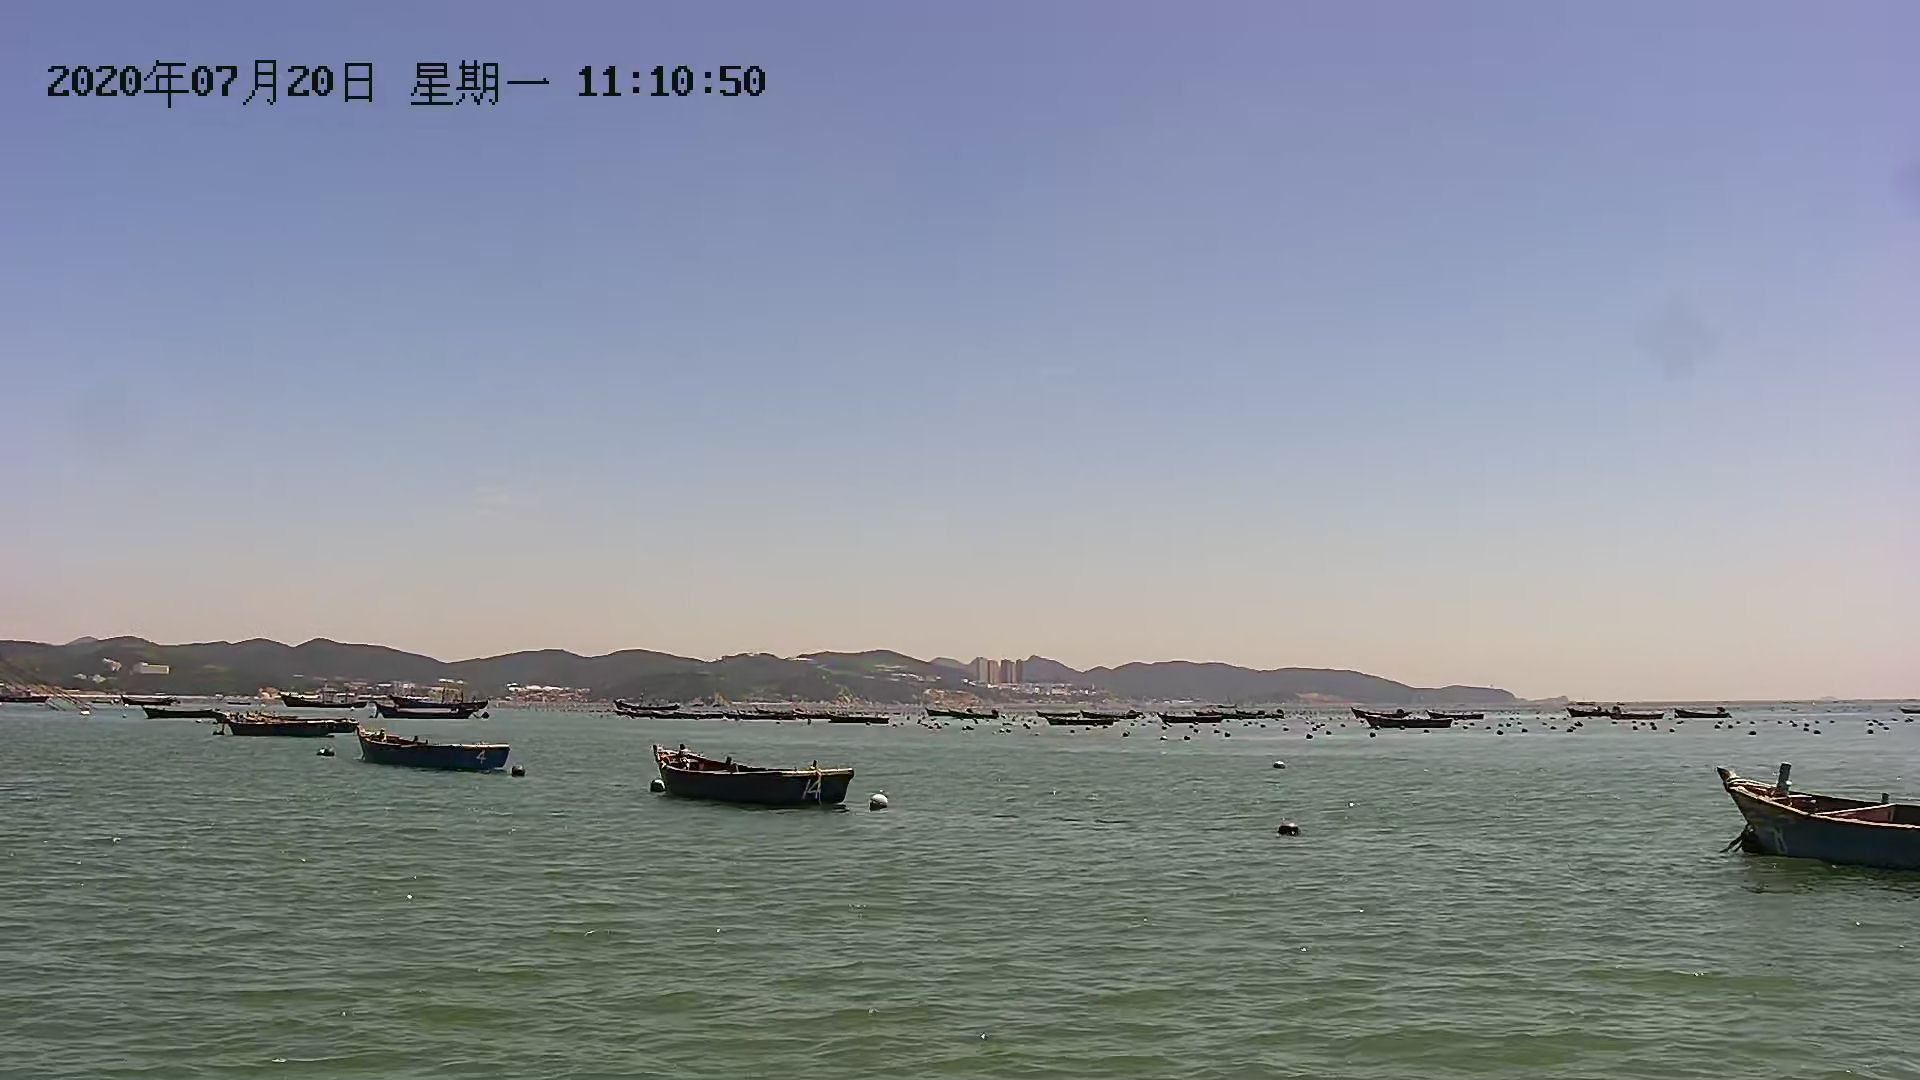ball: (1270, 812, 1308, 845), (506, 761, 538, 782), (872, 789, 899, 812)
boat: (1718, 760, 1920, 860), (649, 745, 853, 808), (359, 720, 510, 775), (218, 713, 367, 741), (128, 694, 233, 724), (1369, 709, 1481, 731)
